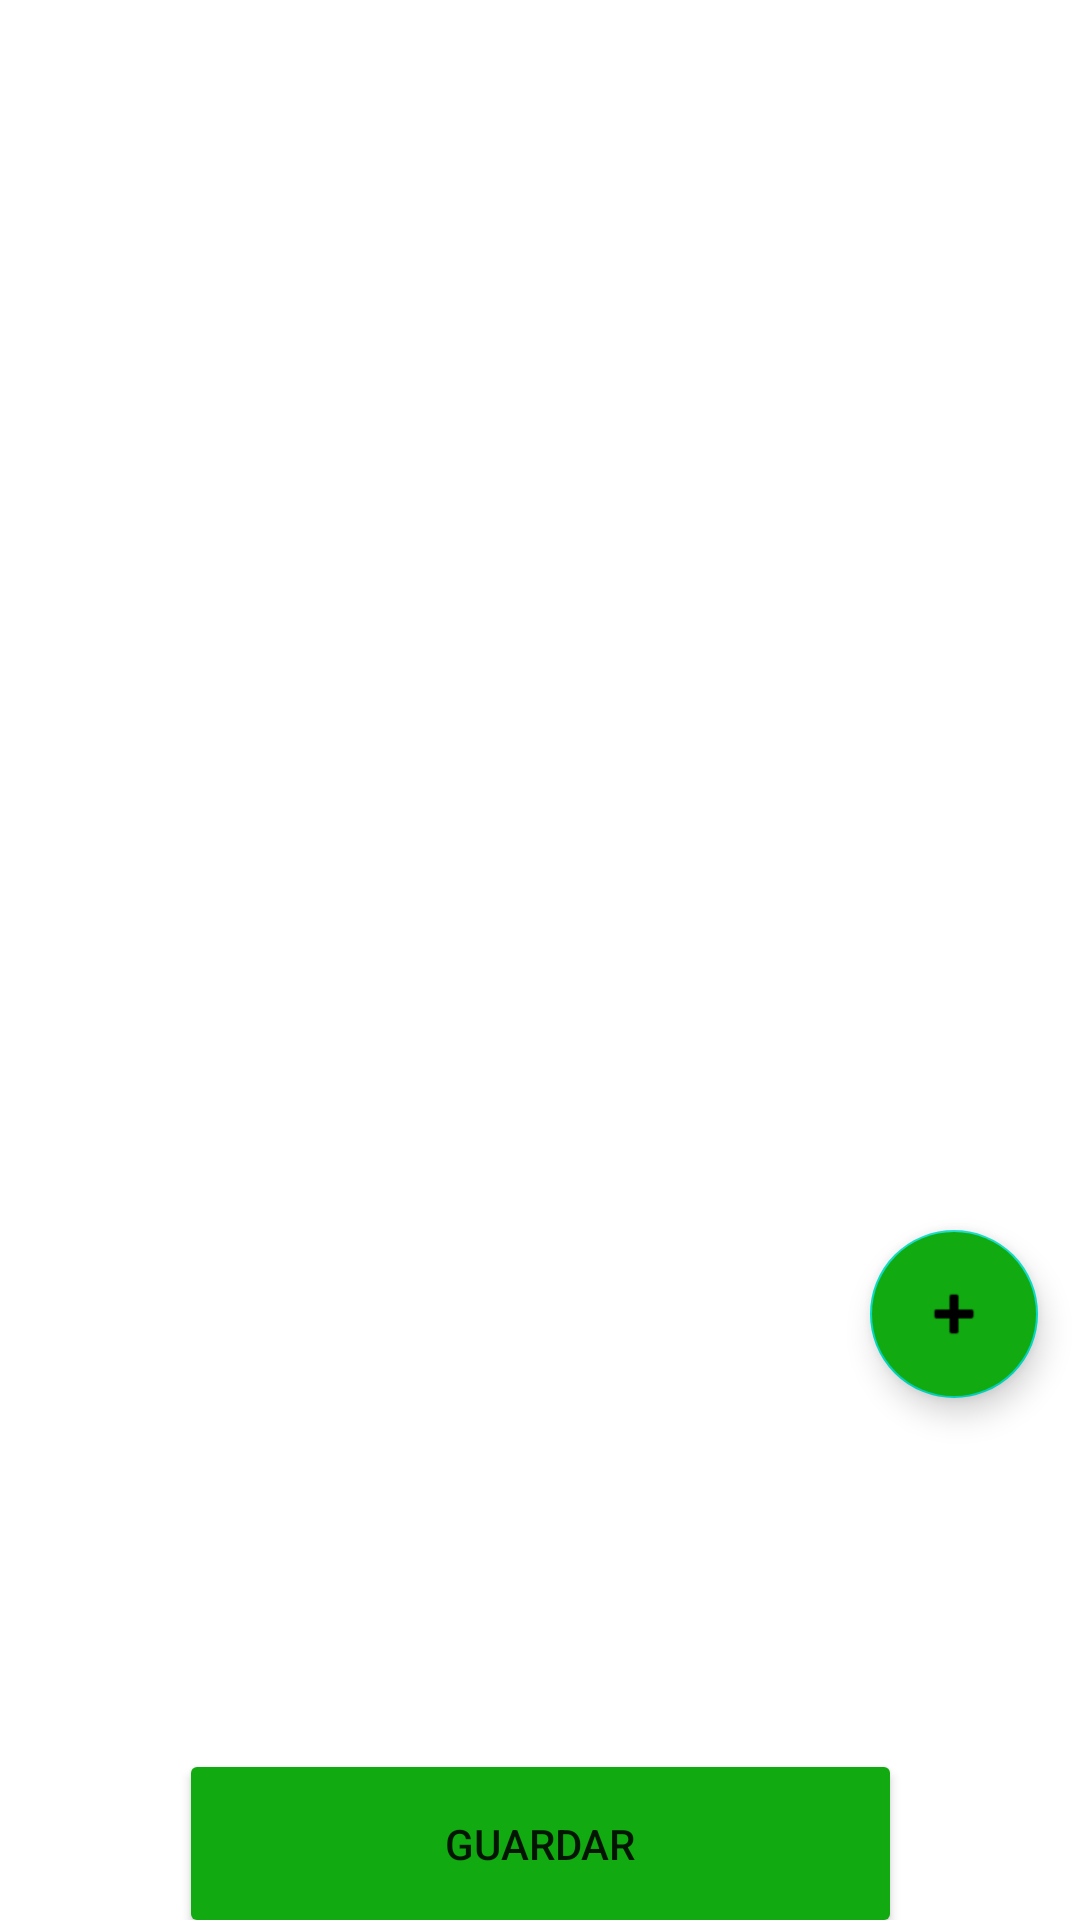

Icon click points for this 1080px x 1920px phone screenshot, format point (x, y):
add: point (954, 1314)
